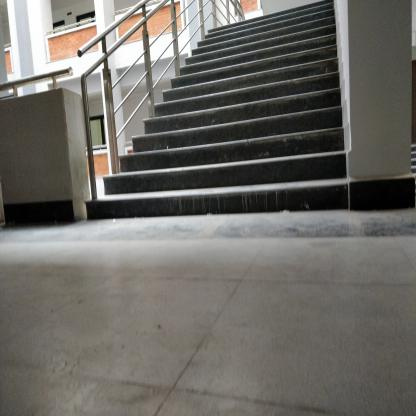stairs: (208, 29, 337, 221)
